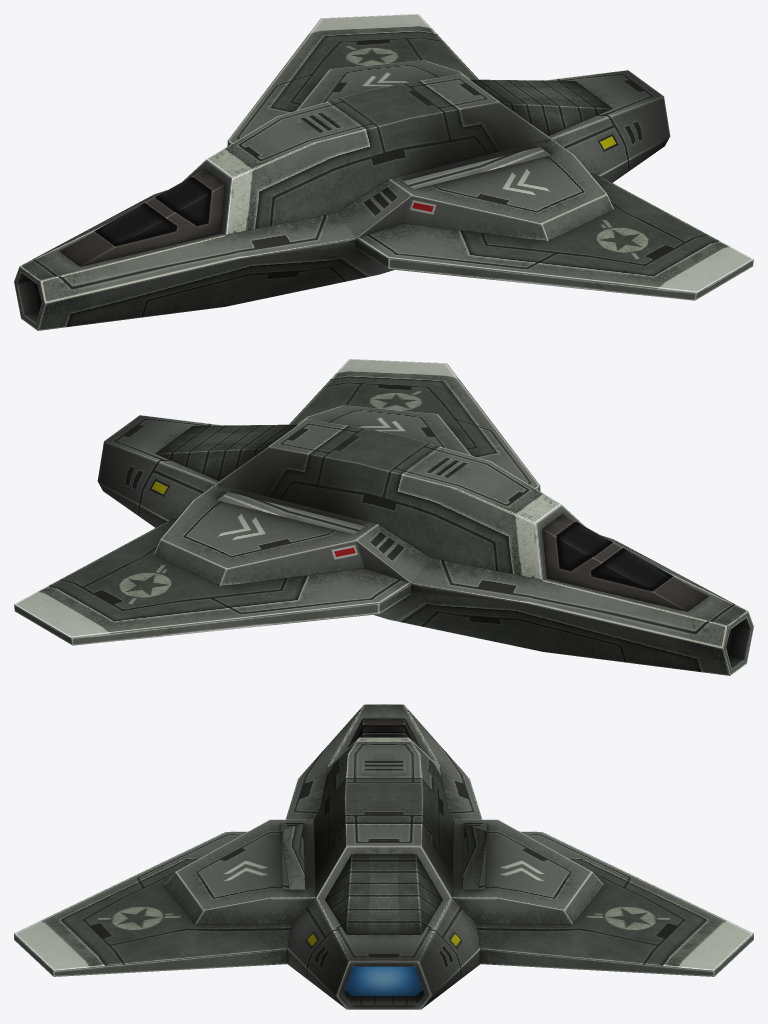
The picture shows the model from 3 angles, top to bottom: view 1: azimuth 30°, elevation 25°; view 2: azimuth 150°, elevation 25°; view 3: azimuth 270°, elevation 25°; orthographic projection.
Parts seen in each view (by area): view 1: space_frigate_6; view 2: space_frigate_6; view 3: space_frigate_6.
Part boxes in pixels (x1,y1,x2,y2): space_frigate_6: (14, 14, 753, 330); space_frigate_6: (14, 359, 753, 675); space_frigate_6: (14, 704, 753, 1009).
Bounding box in the file's own units: 0.3514 × 0.0743 × 0.3708.
